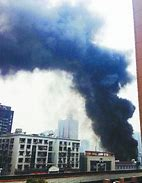smoke: (1, 4, 137, 159)
